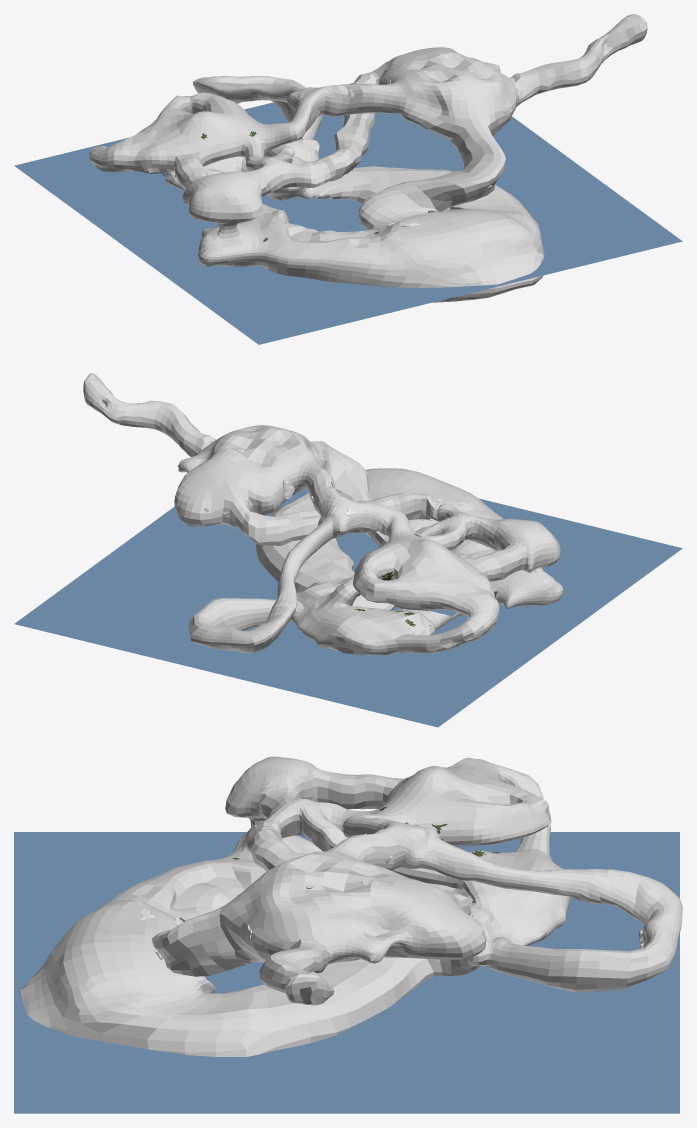
The model's file is Cave_System_Mk2.fbx.
3 renders of one model, top to bottom at view 1: azimuth 30°, elevation 25°; view 2: azimuth 150°, elevation 25°; view 3: azimuth 270°, elevation 25°, orthographic. The views are drawn at different scales.
Visible parts, largest first — view 1: CaveMap, Water Level; view 2: CaveMap, Water Level; view 3: CaveMap, Water Level.
Part boxes in pixels (box(x1,y1,x2,y2)): CaveMap: box(89, 14, 647, 302); Water Level: box(14, 83, 682, 344); CaveMap: box(83, 373, 563, 655); Water Level: box(14, 489, 682, 727); CaveMap: box(19, 756, 682, 1057); Water Level: box(14, 832, 679, 1113).
Bounding box in the file's own units: 22381 × 6901 × 19451.
